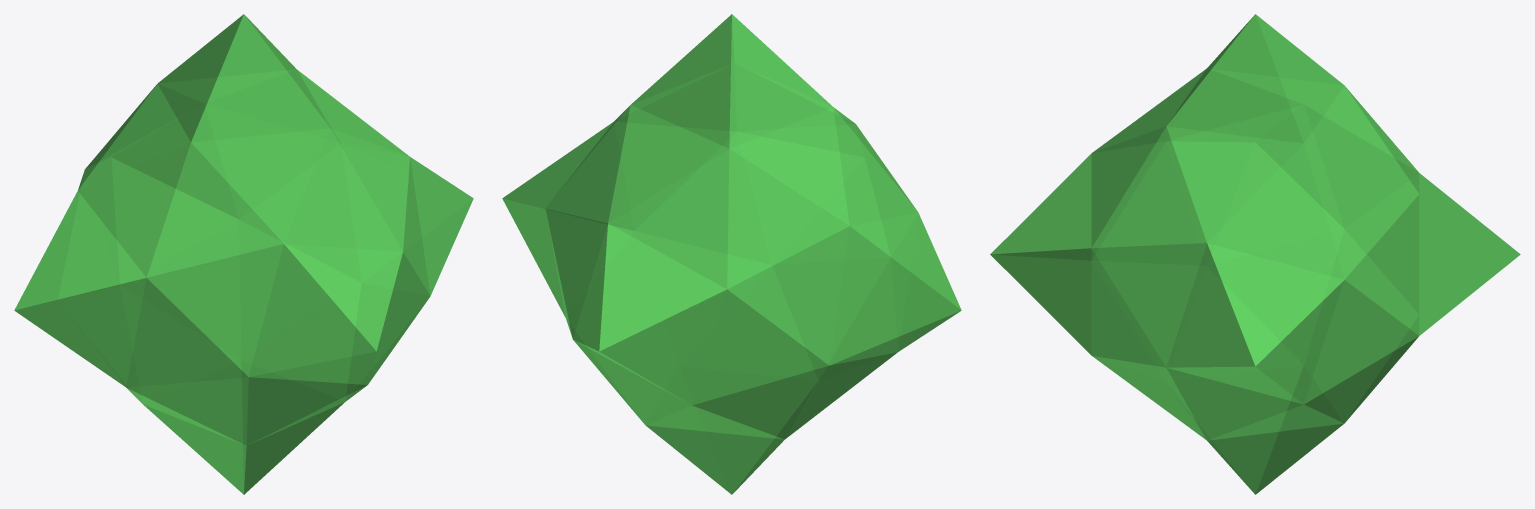
Rendered from 14_Hexaugmented_Snub_Cube.obj.
The picture shows the model from 3 angles, left to right: view 1: azimuth 30°, elevation 25°; view 2: azimuth 150°, elevation 25°; view 3: azimuth 270°, elevation 25°; orthographic projection.
Size of the model in its own units: 3.7 by 3.7 by 3.7.
